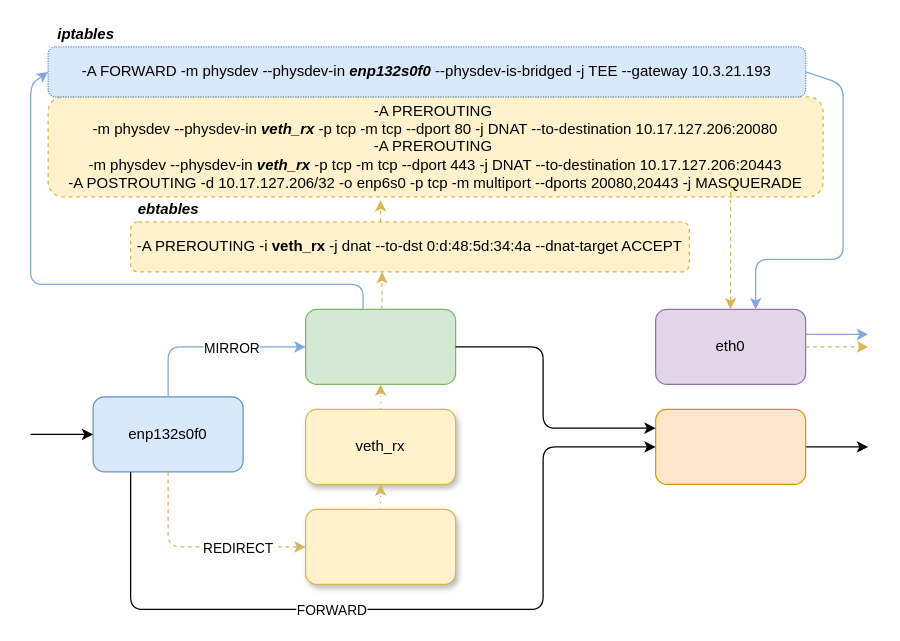
The diagram is 900 pixels wide and 641 high, and some of its shapes have lost their labels. The centre of each missing label's shape, as x and y in pixels:
"enp132s0f1" belongs at (x=730, y=446).
"veth_tx" belongs at (x=381, y=548).
"xacl_br0" belongs at (x=380, y=346).
